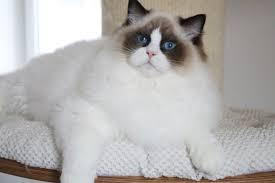ragdoll: (117, 1, 208, 95)
